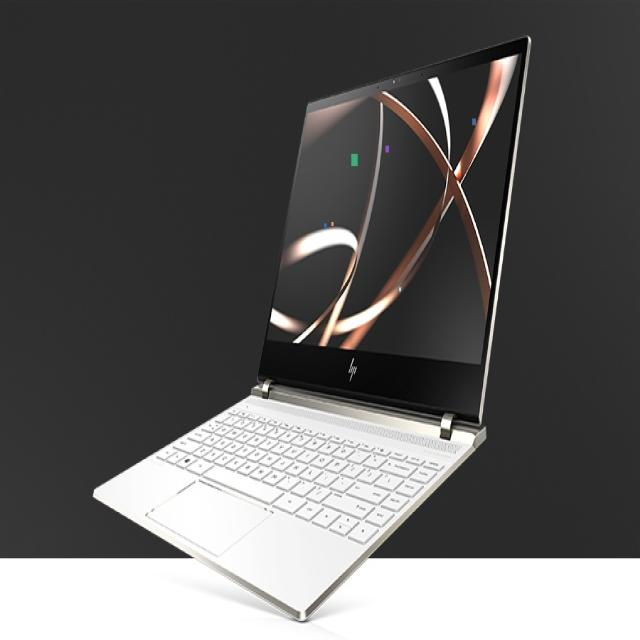dead_pixel: (351, 154, 357, 165), (472, 118, 475, 124), (385, 146, 388, 151), (324, 223, 326, 226), (331, 222, 333, 225), (399, 287, 400, 290)
